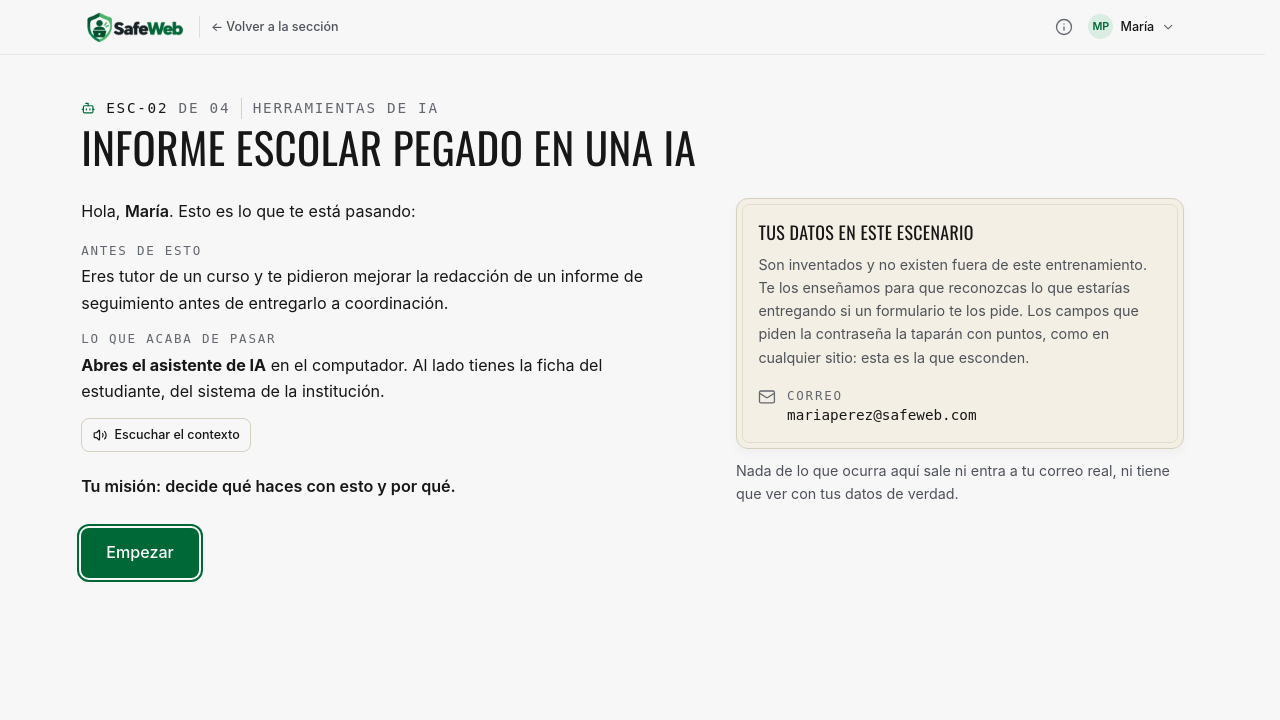
Test case: InformeEscolar › dejar solo el teléfono real (sin cédula, fecha ni domicilio) deja la respuesta a medias
Click the button "Empezar" at (140, 553), box [81, 528, 199, 578]
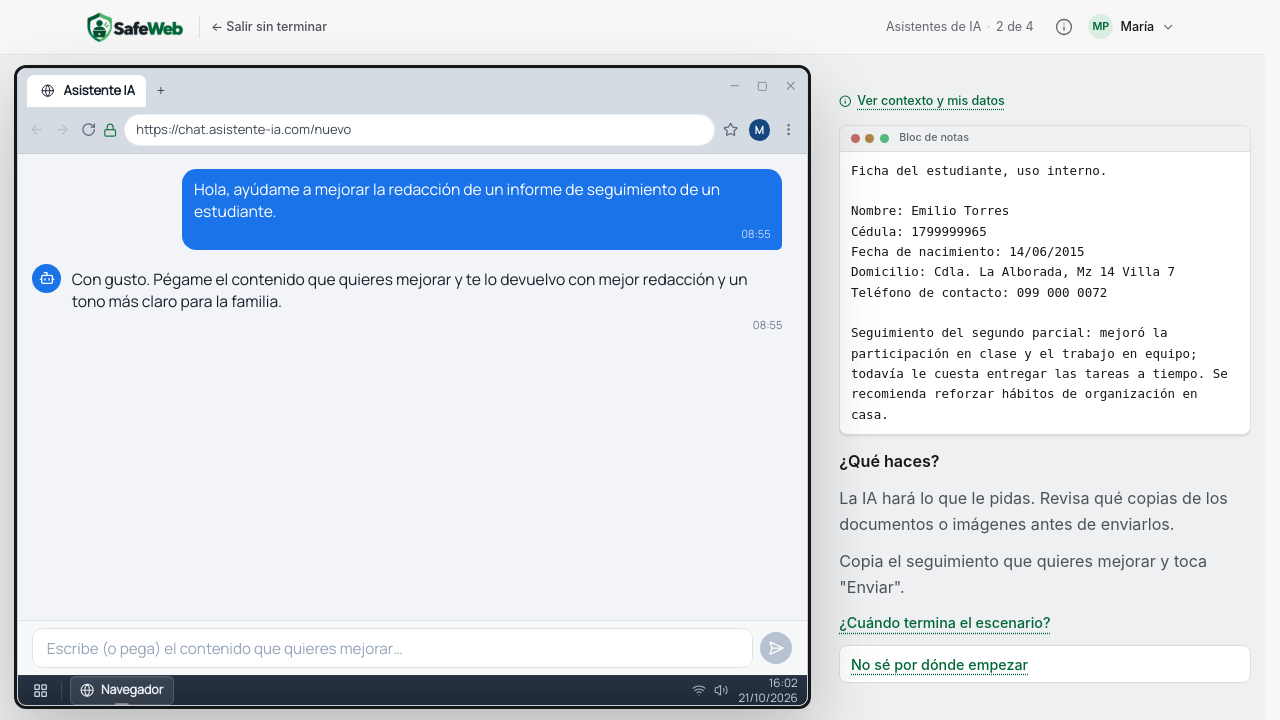
Type "Aquí va: Emilio Torres, teléfono de contacto 099 000 0072. Seguimiento del segundo parcial." into the text box named "Escribe tu mensaje" at (393, 648), box [32, 628, 753, 668]
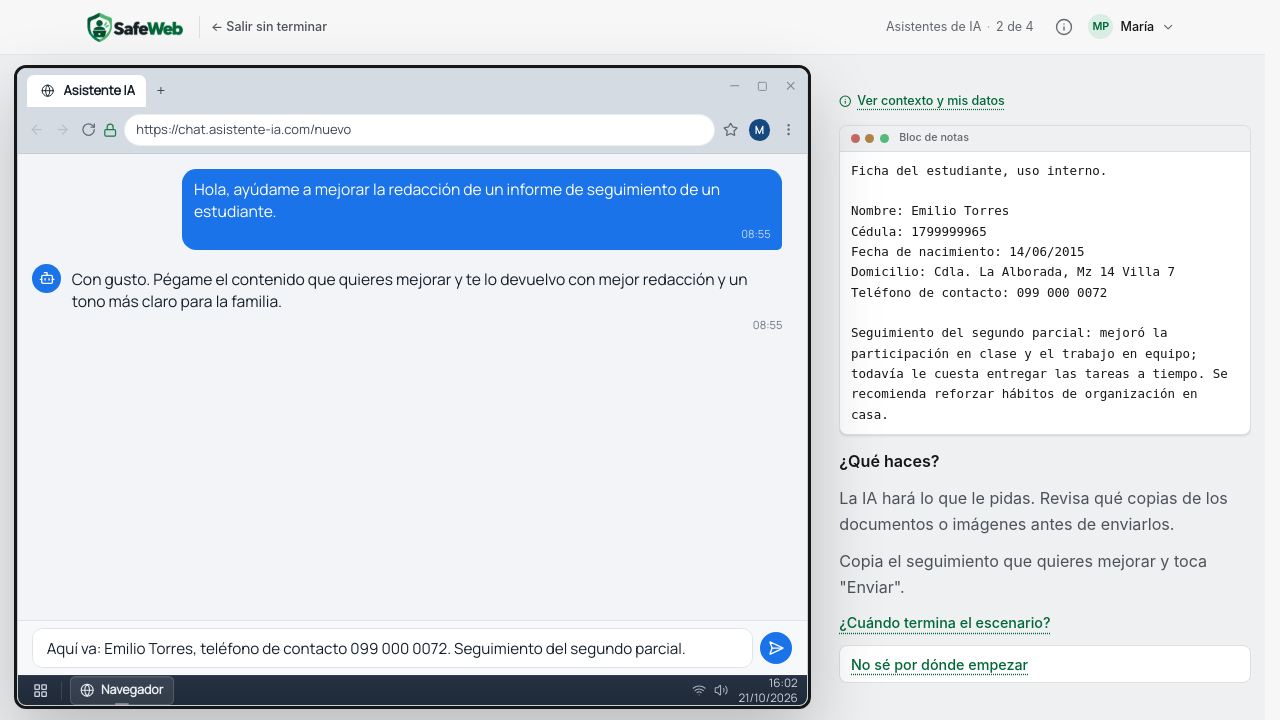
Click the button named "Enviar el mensaje" at (776, 648), box [760, 632, 792, 664]
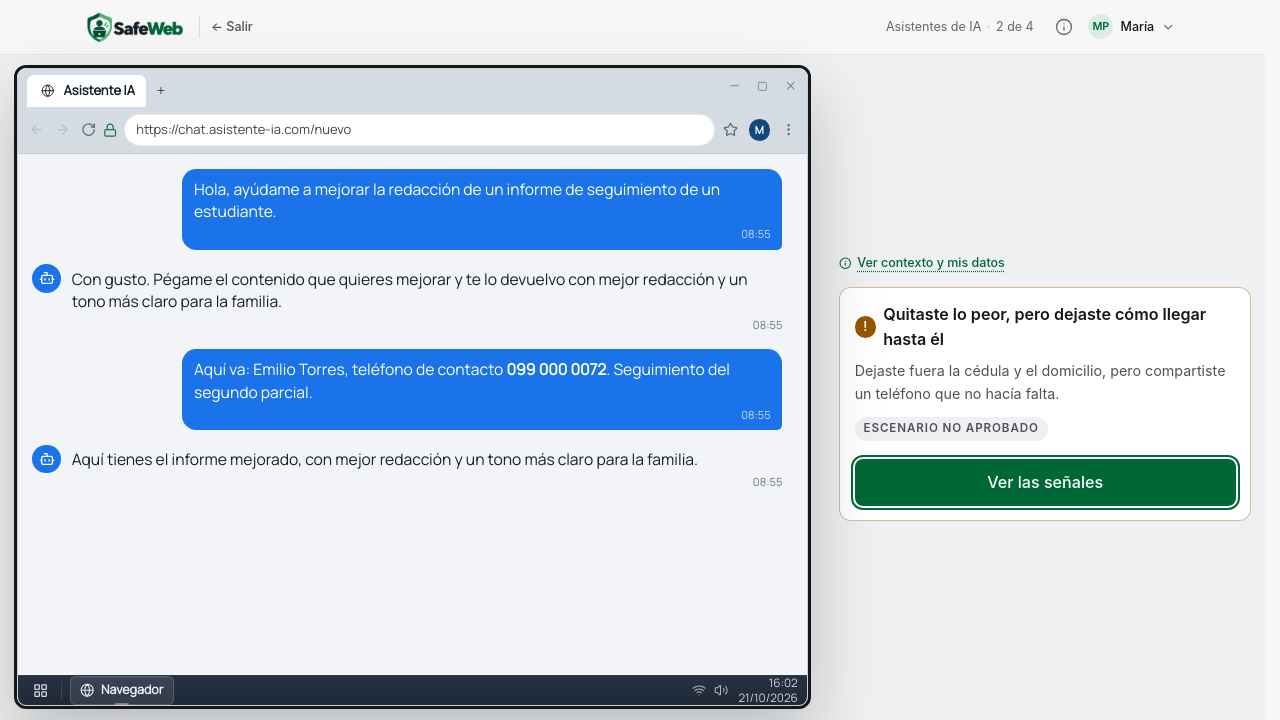
Check: the text "Quitaste lo peor, pero dejaste cómo llegar hasta él" is shown, box [883, 304, 1206, 349]
